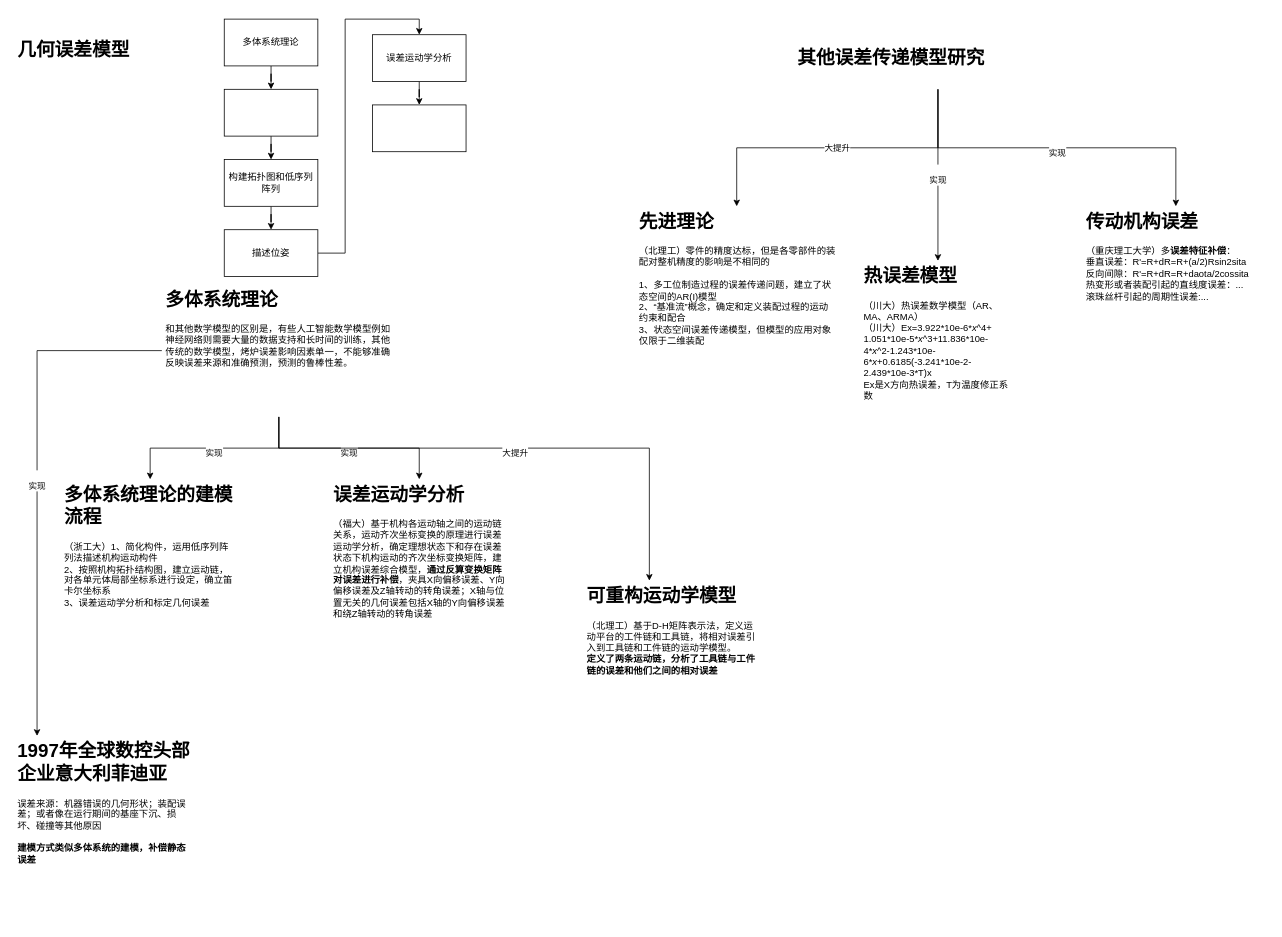
The diagram is 1282 pixels wide and 937 high, and some of its shapes have lost their labels. The shapes that lost their labels are listed below. From the top down, each one's box as (x1, y1, x2, y2) in pixels, then its label:
(223, 89, 318, 136): 加工机械抽象为多体系统
(372, 104, 466, 152): 标定误差
